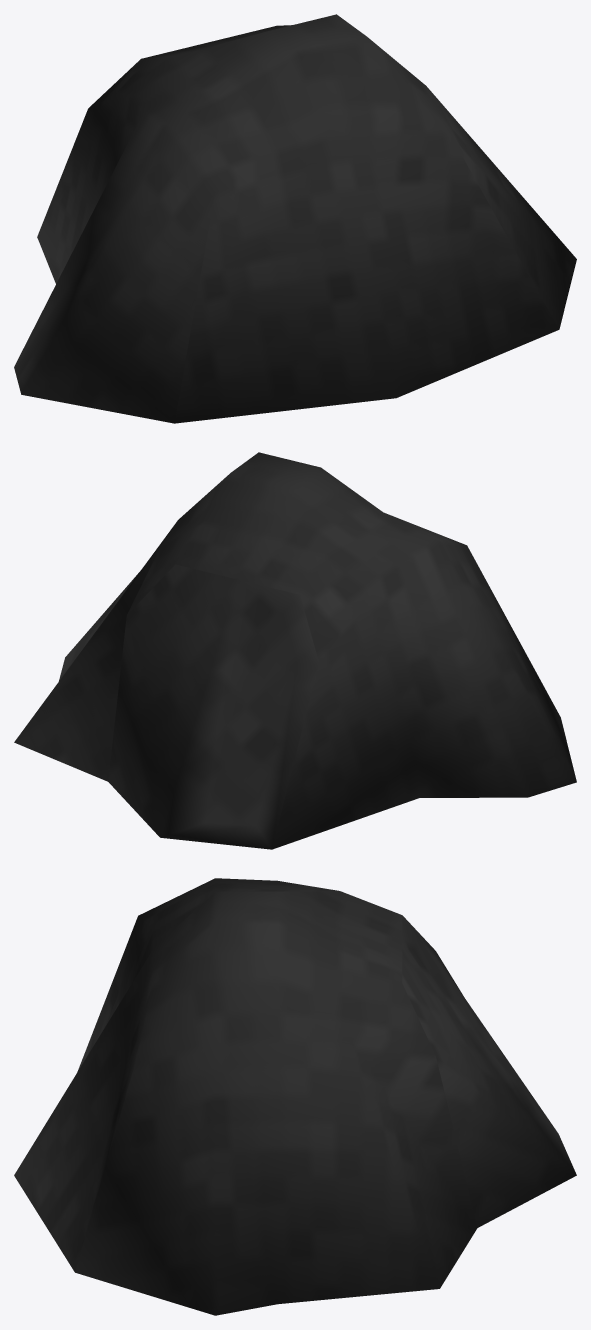
File: RockBlend.fbx
3 views of the same model, one above another, from view 1: azimuth 30°, elevation 25°; view 2: azimuth 150°, elevation 25°; view 3: azimuth 270°, elevation 25° (orthographic). The views are drawn at different scales.
Parts seen in each view (by area): view 1: Cube; view 2: Cube; view 3: Cube.
Part boxes in pixels (x1,y1,x2,y2): Cube: [14, 14, 576, 423]; Cube: [14, 452, 576, 849]; Cube: [14, 878, 576, 1315].
Bounding box in the file's own units: 532 × 251 × 451.
